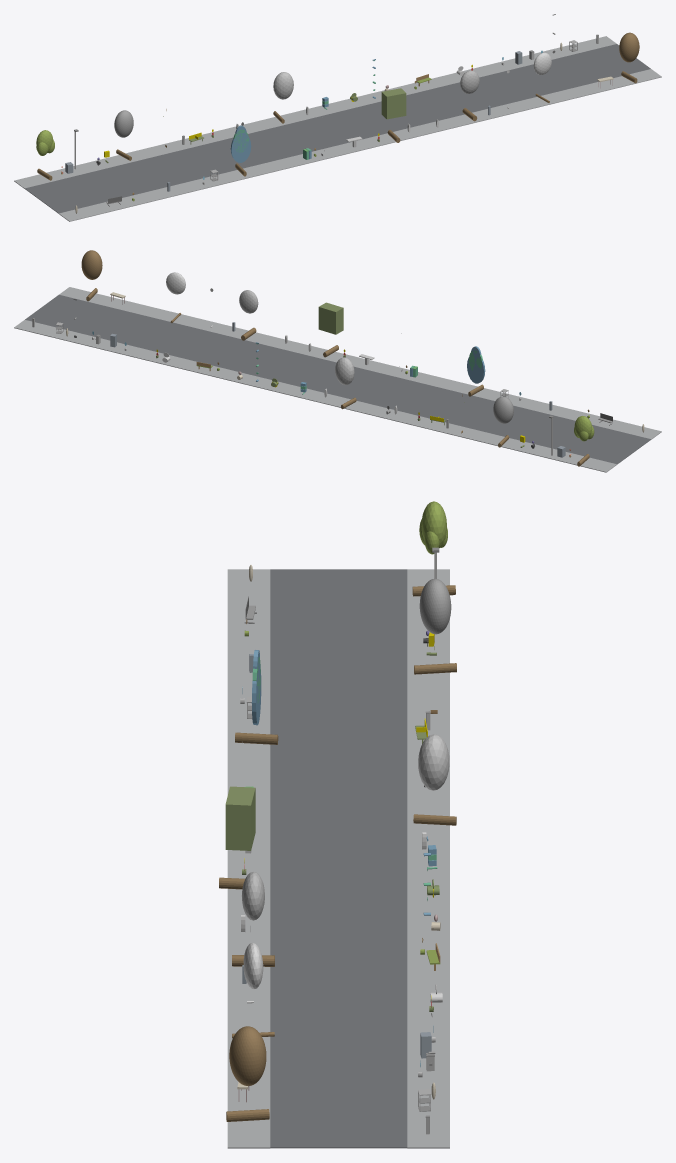
The picture shows the model from 3 angles, top to bottom: view 1: azimuth 30°, elevation 25°; view 2: azimuth 150°, elevation 25°; view 3: azimuth 270°, elevation 25°; orthographic projection. The views are drawn at different scales.
Visible parts, largest first — view 1: road_slab, sidewalk_left, sidewalk_right, inst_0022, inst_0020, inst_0025, inst_0021, inst_0019, inst_0018, inst_0023, inst_0024; view 2: road_slab, sidewalk_right, sidewalk_left, inst_0022, inst_0020, inst_0025, inst_0019, inst_0021, inst_0018, inst_0023, inst_0024; view 3: road_slab, sidewalk_right, sidewalk_left, inst_0025, inst_0022, inst_0021, inst_0019, inst_0018, inst_0023, inst_0020.
Part boxes in pixels (x1=…): road_slab: x1=24, y1=44, x2=650, y2=213; sidewalk_left: x1=59, y1=69, x2=661, y2=221; sidewalk_right: x1=14, y1=36, x2=616, y2=188; inst_0022: x1=381, y1=88, x2=406, y2=142; inst_0020: x1=230, y1=125, x2=251, y2=176; inst_0025: x1=619, y1=32, x2=639, y2=83; inst_0021: x1=273, y1=72, x2=293, y2=123; inst_0019: x1=114, y1=110, x2=133, y2=160; inst_0018: x1=36, y1=130, x2=54, y2=180; inst_0023: x1=460, y1=70, x2=479, y2=121; inst_0024: x1=533, y1=52, x2=551, y2=102; road_slab: x1=25, y1=295, x2=650, y2=464; sidewalk_right: x1=14, y1=320, x2=616, y2=472; sidewalk_left: x1=59, y1=287, x2=661, y2=439; inst_0022: x1=318, y1=302, x2=343, y2=357; inst_0020: x1=467, y1=346, x2=485, y2=396; inst_0025: x1=81, y1=250, x2=102, y2=301; inst_0019: x1=493, y1=396, x2=513, y2=447; inst_0021: x1=335, y1=357, x2=356, y2=409; inst_0018: x1=574, y1=416, x2=594, y2=466; inst_0023: x1=239, y1=290, x2=258, y2=340; inst_0024: x1=166, y1=272, x2=185, y2=322; road_slab: x1=270, y1=569, x2=407, y2=1148; sidewalk_right: x1=407, y1=569, x2=449, y2=1148; sidewalk_left: x1=227, y1=569, x2=270, y2=1148; inst_0025: x1=226, y1=1026, x2=269, y2=1121; inst_0022: x1=219, y1=786, x2=255, y2=889; inst_0021: x1=413, y1=734, x2=456, y2=825; inst_0019: x1=414, y1=578, x2=456, y2=674; inst_0018: x1=412, y1=501, x2=455, y2=596; inst_0023: x1=232, y1=871, x2=274, y2=966; inst_0020: x1=235, y1=650, x2=278, y2=744.
Bounding box in the file's own units: 80 × 6.08 × 13.94.
